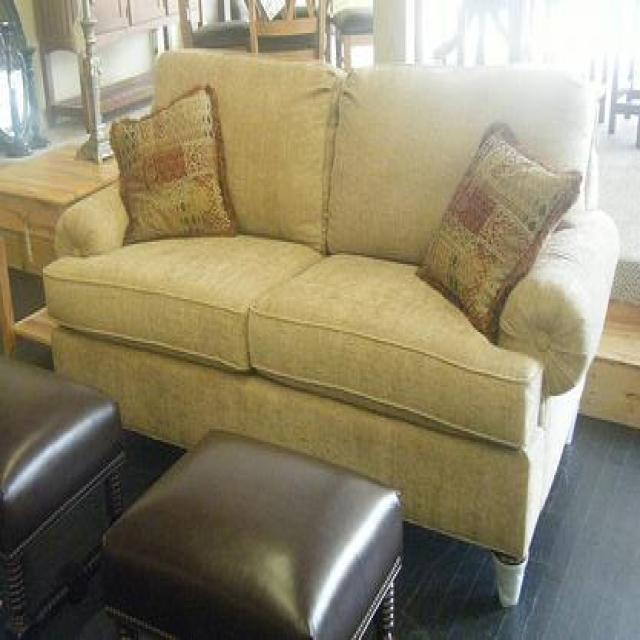sofa: (43, 44, 620, 607)
